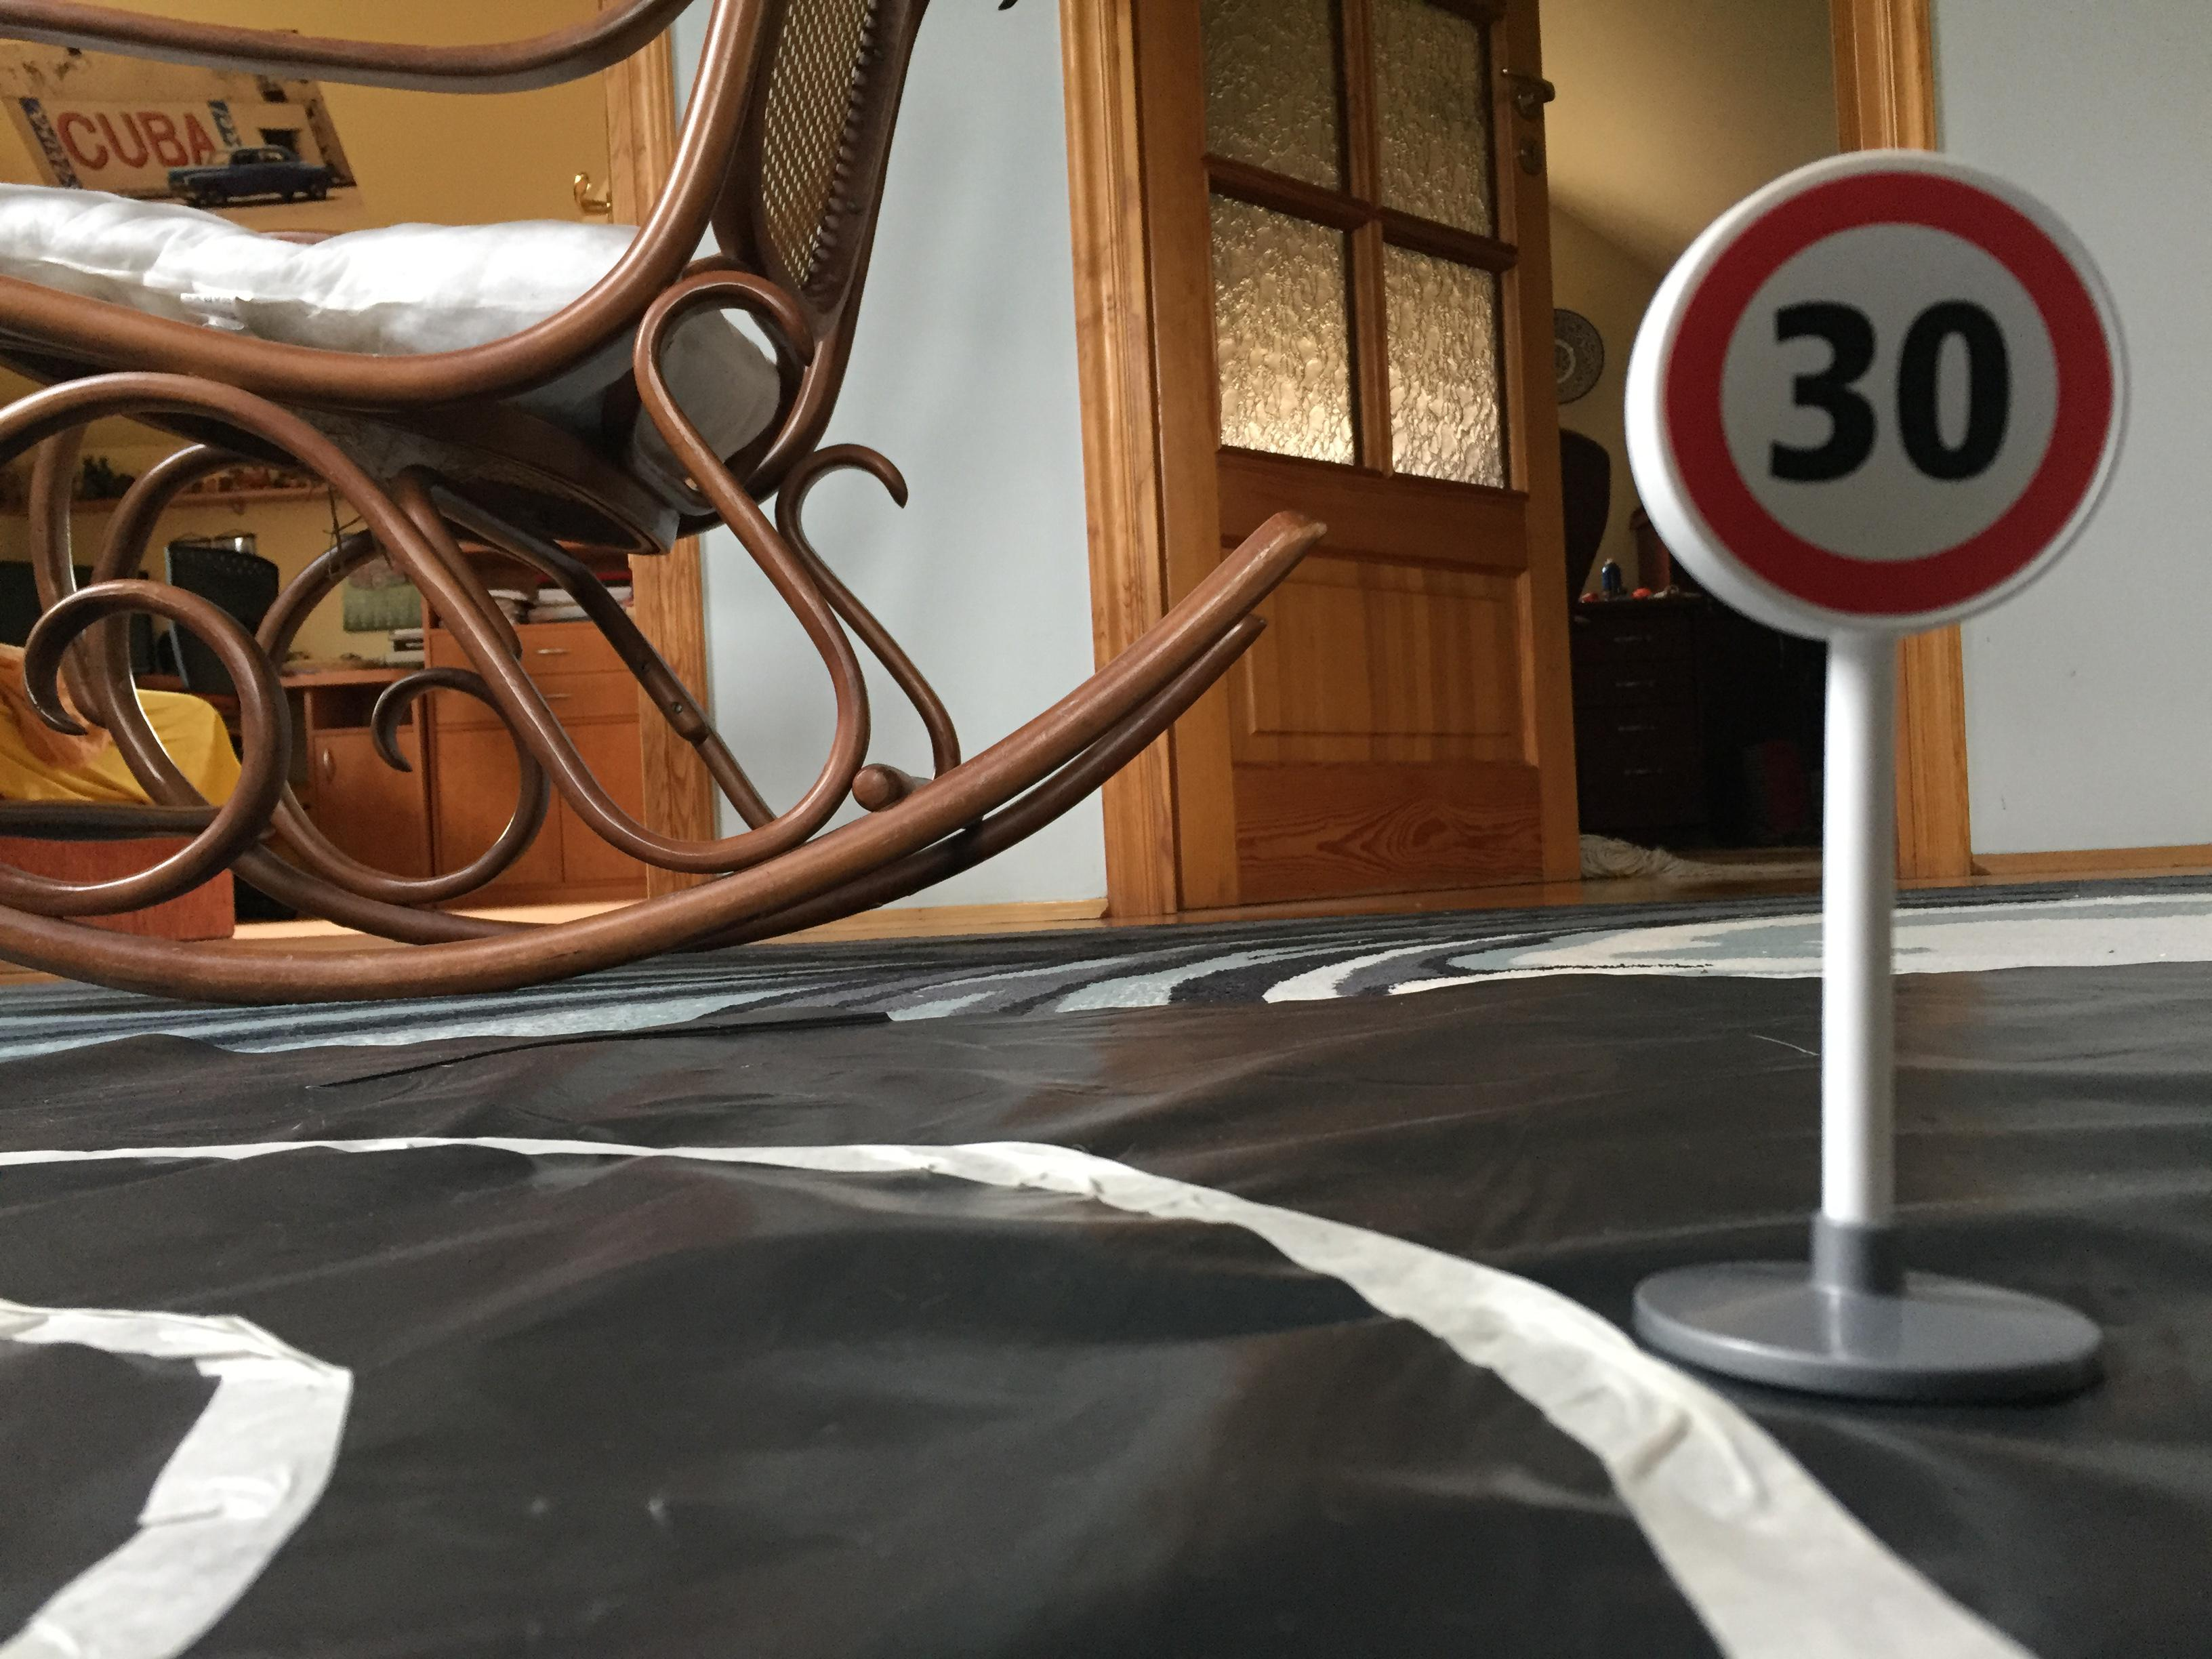speed: (1604, 139, 2144, 662)
